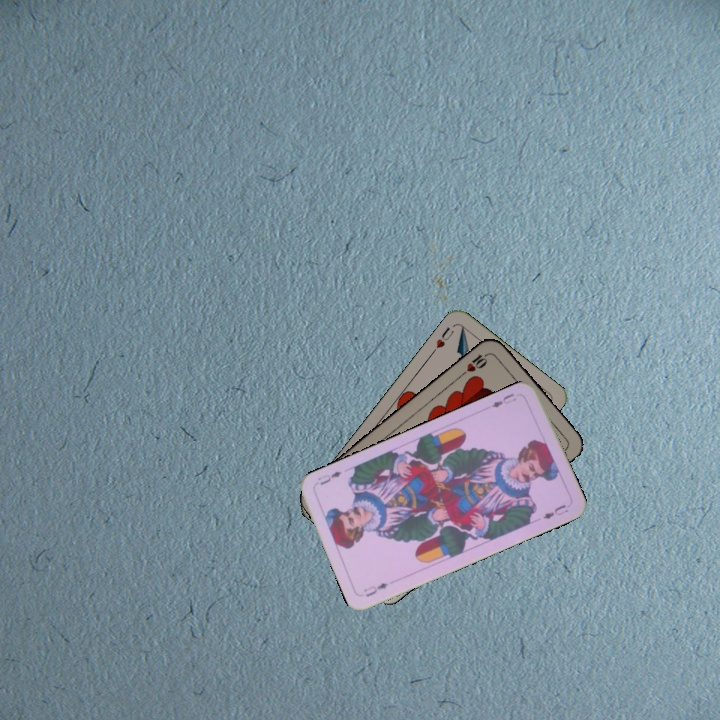EU: (487, 389, 519, 410), (360, 578, 391, 599)
H10: (458, 349, 492, 378)
HU: (428, 323, 457, 356)
